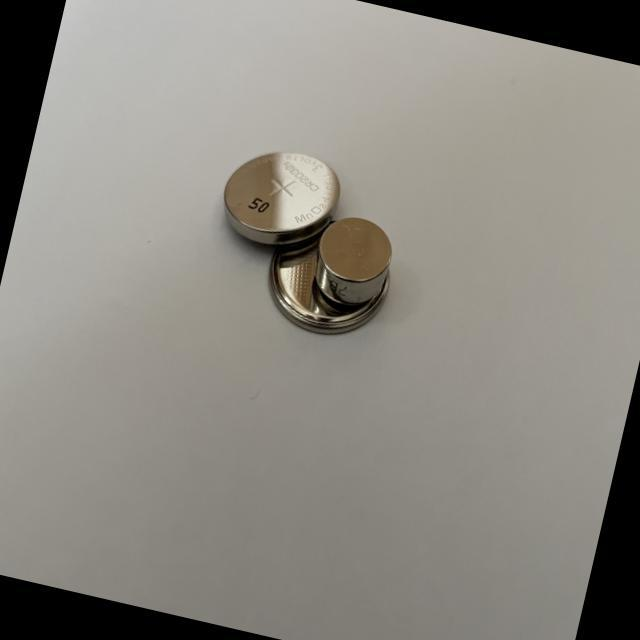COIN: (254, 206, 404, 352), (212, 136, 348, 263), (306, 208, 400, 316)
